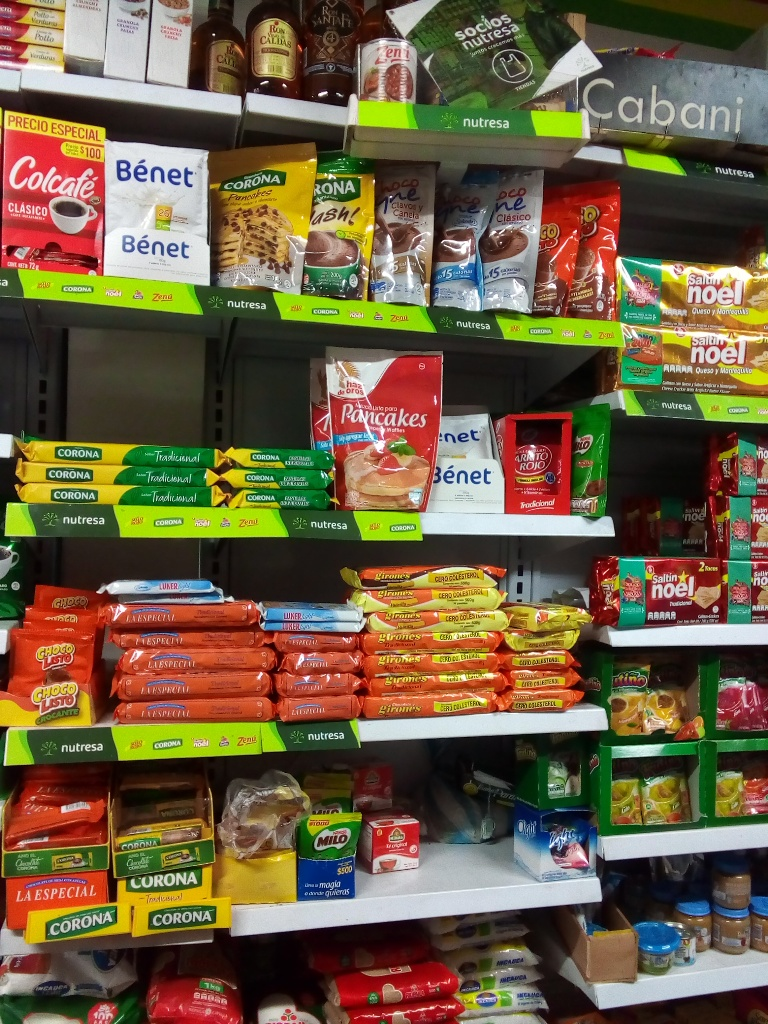COL0170103SOB02000: (5, 623, 99, 706)
